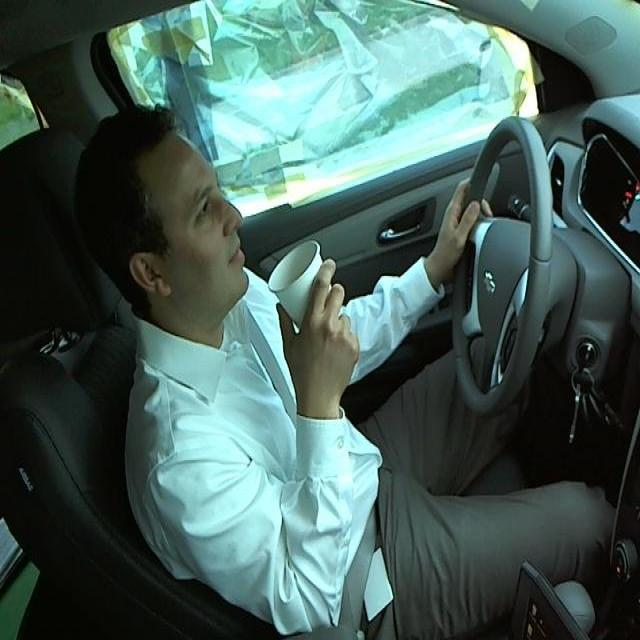drinking: (269, 239, 344, 344)
